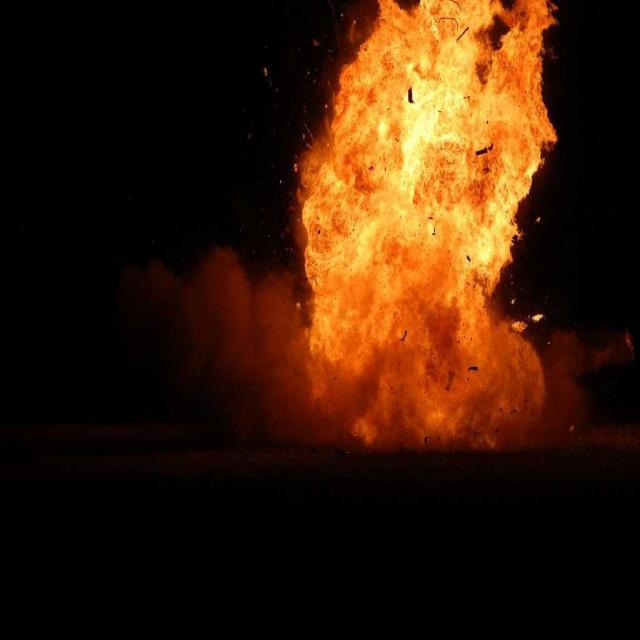Fire: (334, 6, 522, 253), (315, 276, 500, 429)
